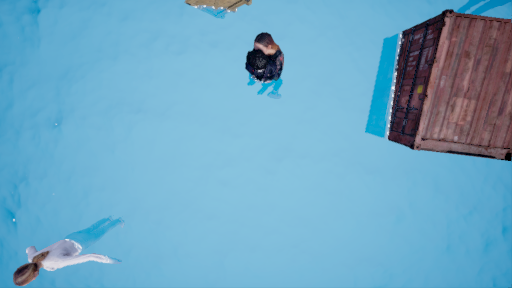person: (8, 222, 135, 281), (234, 40, 285, 102)
